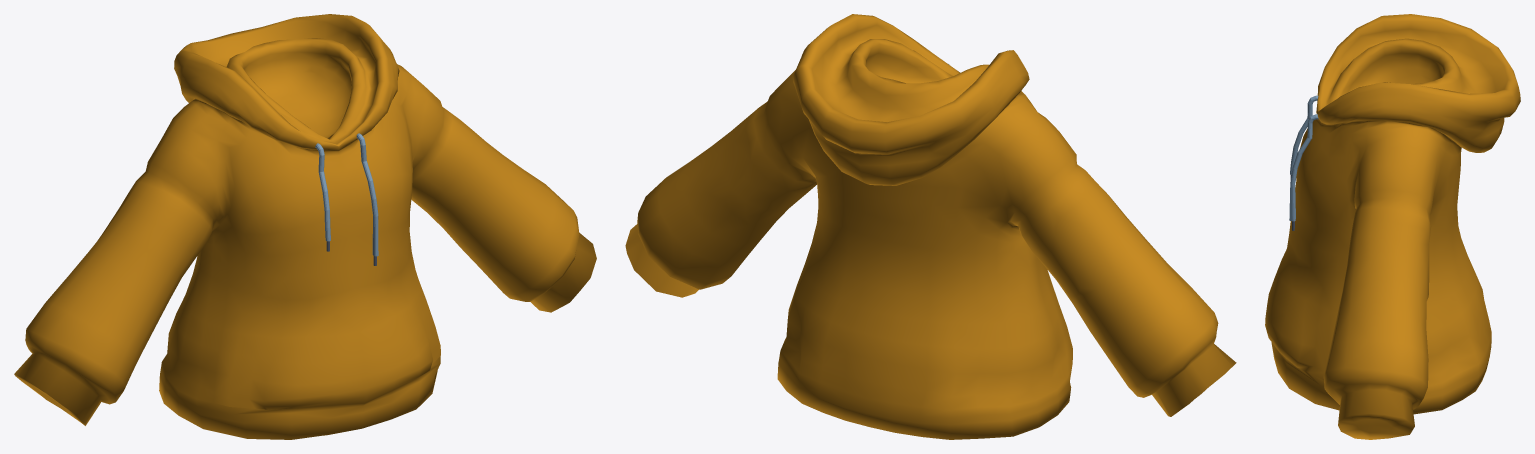
The model's file is tpp2_l.fbx.
The picture shows the model from 3 angles, left to right: view 1: azimuth 30°, elevation 25°; view 2: azimuth 150°, elevation 25°; view 3: azimuth 270°, elevation 25°; orthographic projection. The views are drawn at different scales.
Visible parts, largest first — view 1: top2_l; view 2: top2_l; view 3: top2_l.
Boxes of the visible parts, bbox=[...] form: top2_l: bbox=[14, 14, 596, 439]; top2_l: bbox=[625, 14, 1236, 439]; top2_l: bbox=[1265, 14, 1520, 439].
Size of the model in its own units: 71.59 by 40.76 by 30.17.
